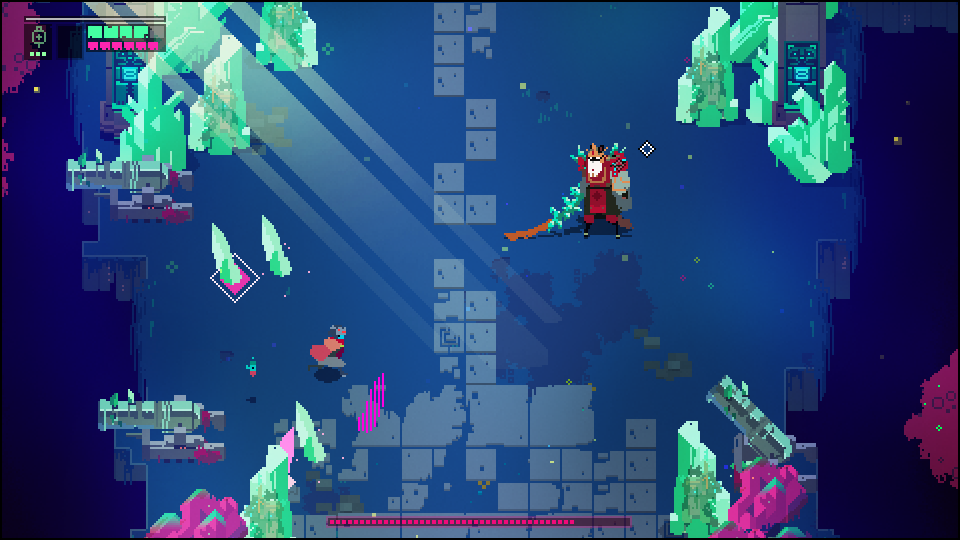hanged_crys: (257, 212, 295, 278), (208, 221, 244, 285), (296, 401, 332, 459), (360, 371, 388, 431)
hanged_man: (538, 140, 645, 241)
player: (310, 321, 351, 373)
